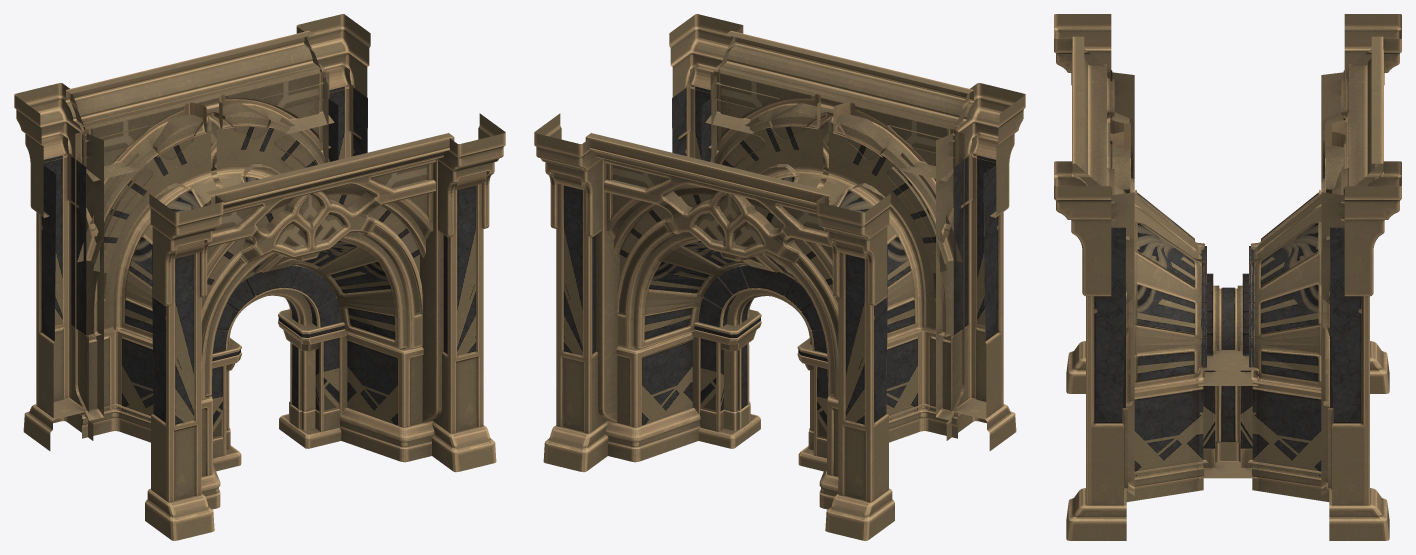
The model's file is ArchDoor_01_Lod0.fbx.
The picture shows the model from 3 angles, left to right: view 1: azimuth 30°, elevation 25°; view 2: azimuth 150°, elevation 25°; view 3: azimuth 270°, elevation 25°; orthographic projection. The views are drawn at different scales.
Visible parts, largest first — view 1: S_Sunforged_ArchDoor_01.mo; view 2: S_Sunforged_ArchDoor_01.mo; view 3: S_Sunforged_ArchDoor_01.mo.
Boxes of the visible parts, x1,y1,x2,y2 form: S_Sunforged_ArchDoor_01.mo: [14, 14, 505, 540]; S_Sunforged_ArchDoor_01.mo: [534, 14, 1025, 540]; S_Sunforged_ArchDoor_01.mo: [1054, 14, 1401, 540].
Bounding box in the file's own units: 1122 × 1082 × 958.
1 material, 1 textured.
